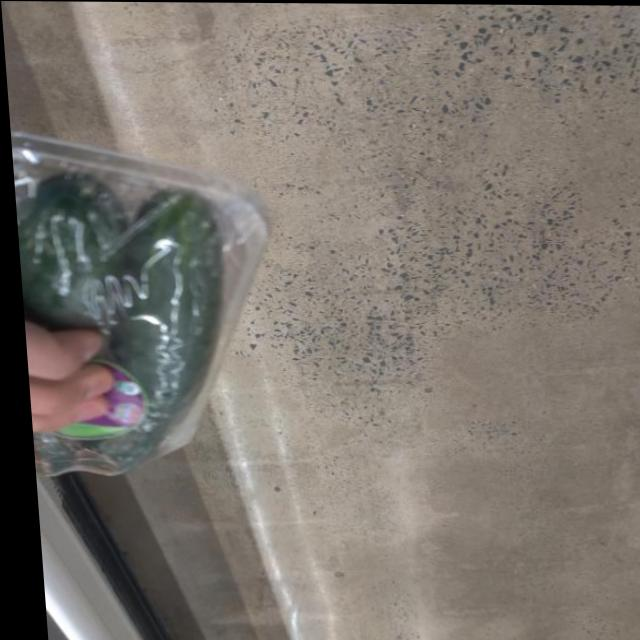Cucumber: (9, 148, 275, 502)
